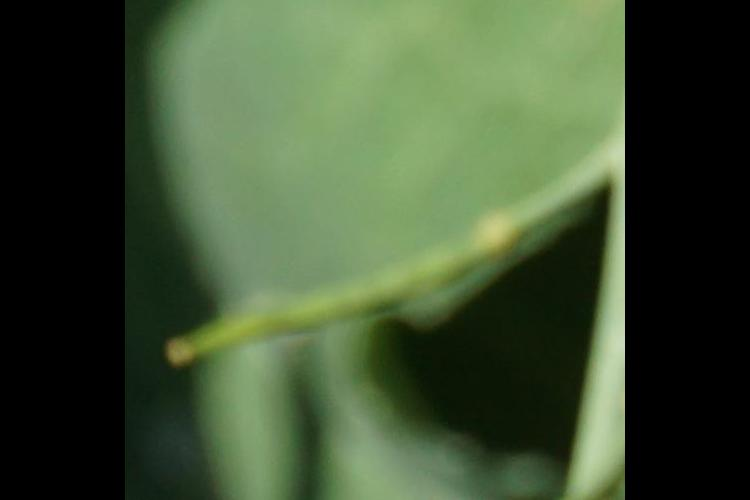pod: (165, 168, 512, 371), (528, 460, 620, 500)
